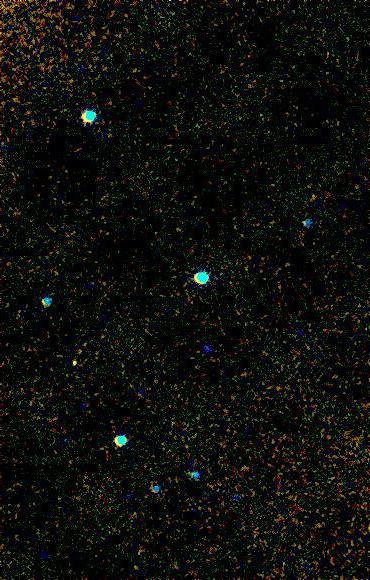star: (61, 348, 91, 378)
